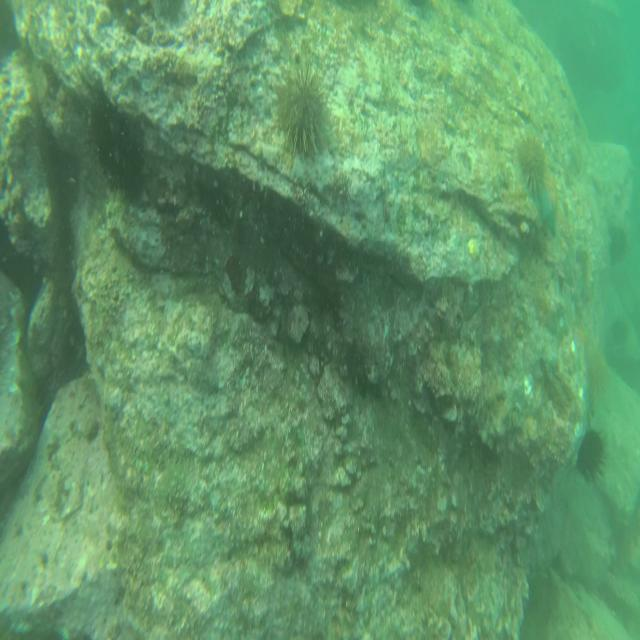echinus: (270, 61, 328, 148), (98, 134, 150, 199), (85, 99, 126, 164), (578, 422, 608, 490), (519, 128, 549, 188), (609, 224, 630, 258), (612, 315, 627, 349)
starfish: (536, 168, 560, 239)
